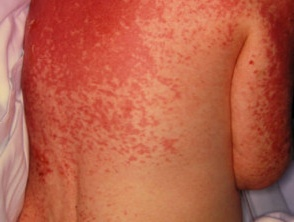SJS-TEN: (17, 0, 294, 192)
